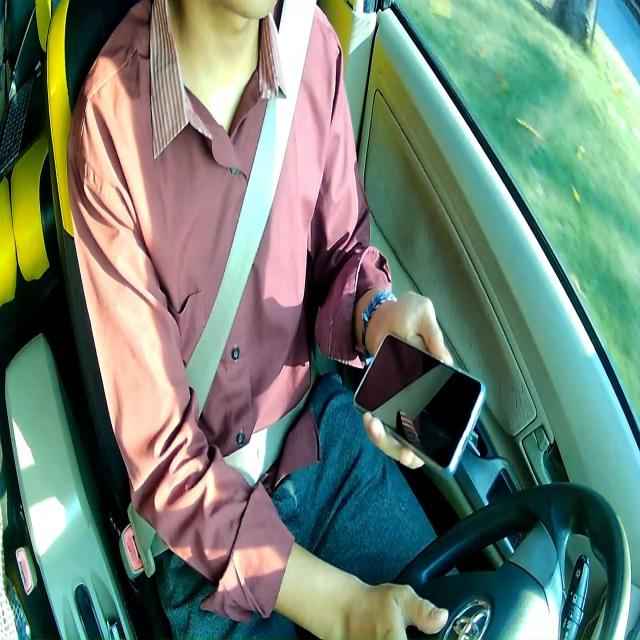phone: (351, 331, 485, 477)
